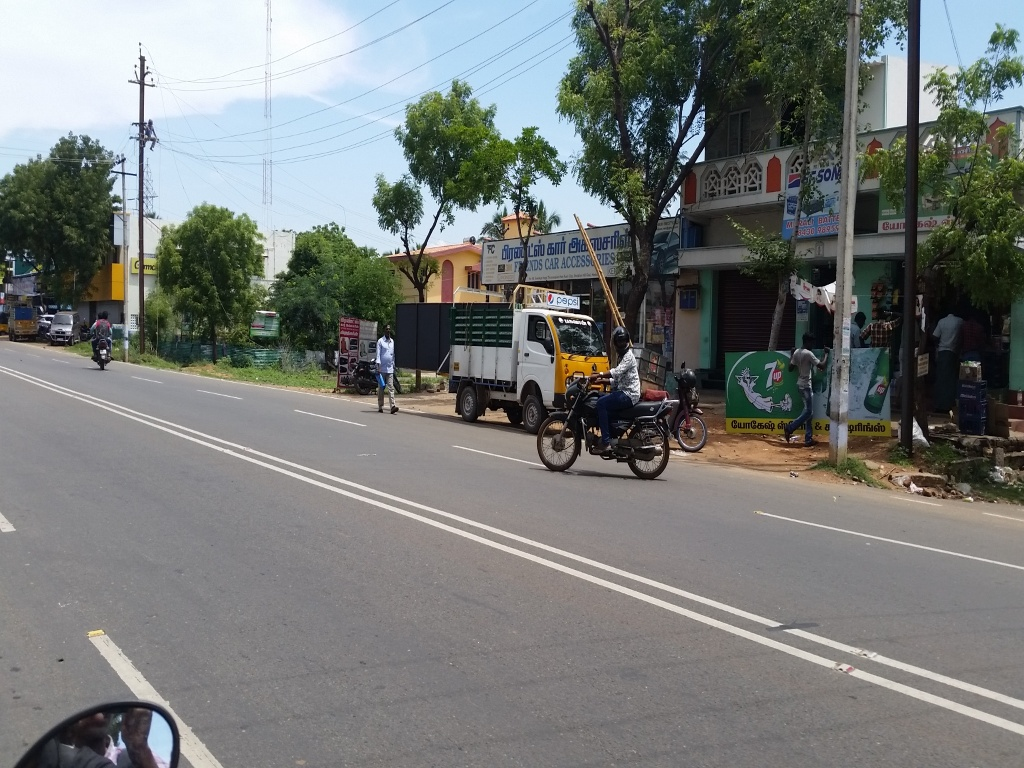biker: (521, 304, 698, 492)
helmet: (606, 322, 638, 365)
